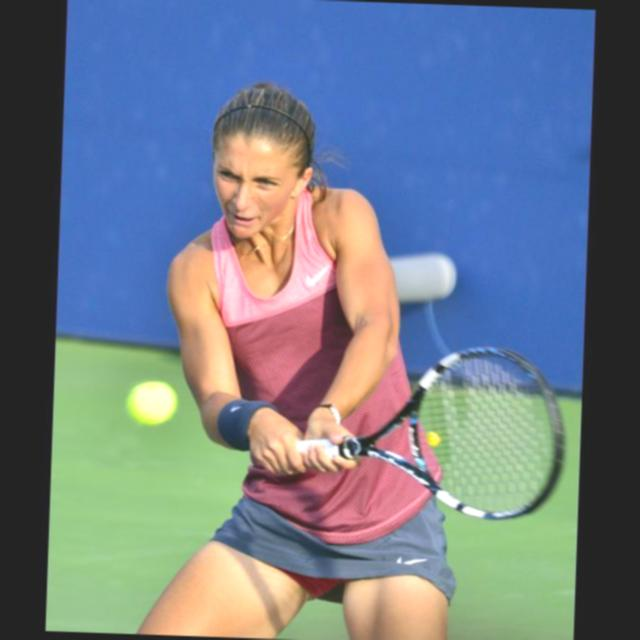tennis-ball: (126, 379, 177, 425)
